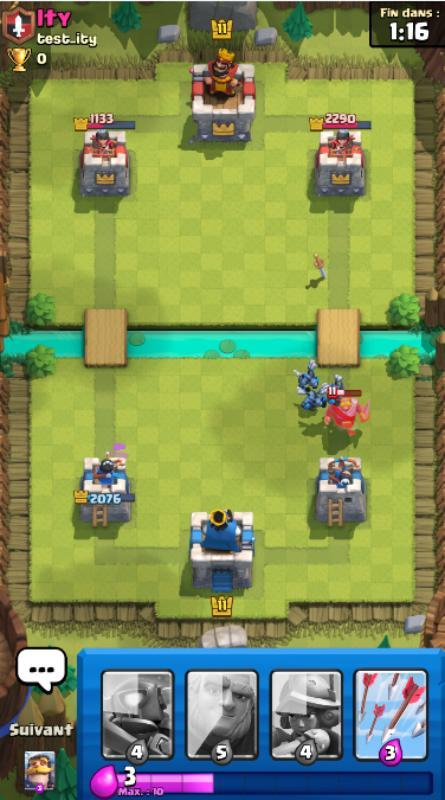chevalier: (323, 385, 372, 436)
gargouille: (293, 360, 320, 393), (323, 373, 345, 408), (296, 386, 328, 410)
